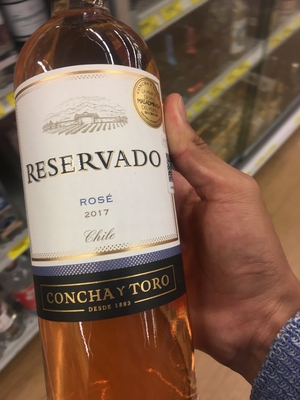reservado rose: (12, 14, 198, 400)
